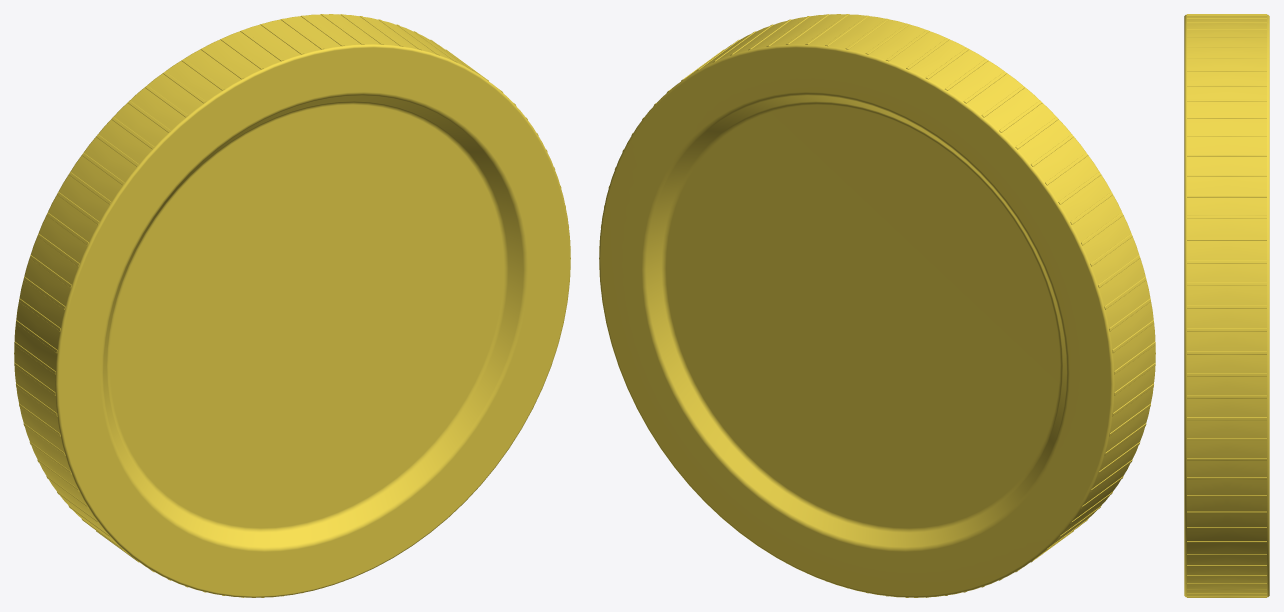
The model's file is coin.glb.
The picture shows the model from 3 angles, left to right: view 1: azimuth 30°, elevation 25°; view 2: azimuth 150°, elevation 25°; view 3: azimuth 270°, elevation 25°; orthographic projection.
Bounding box in the file's own units: 665 × 665 × 97.4.
